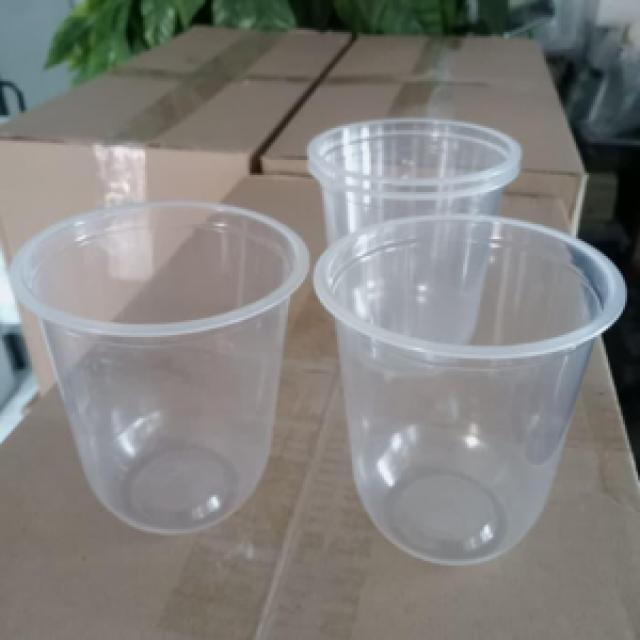plastic cup: (314, 205, 629, 570), (9, 196, 314, 542), (303, 115, 531, 382)
